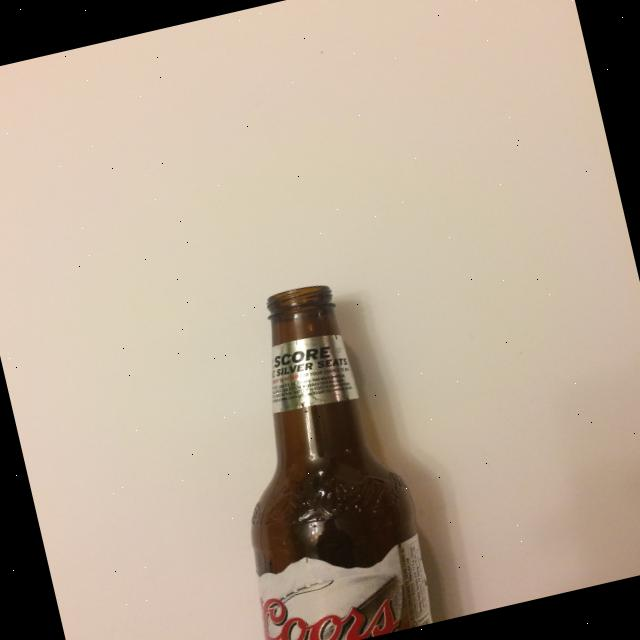glass: (186, 272, 441, 640)
